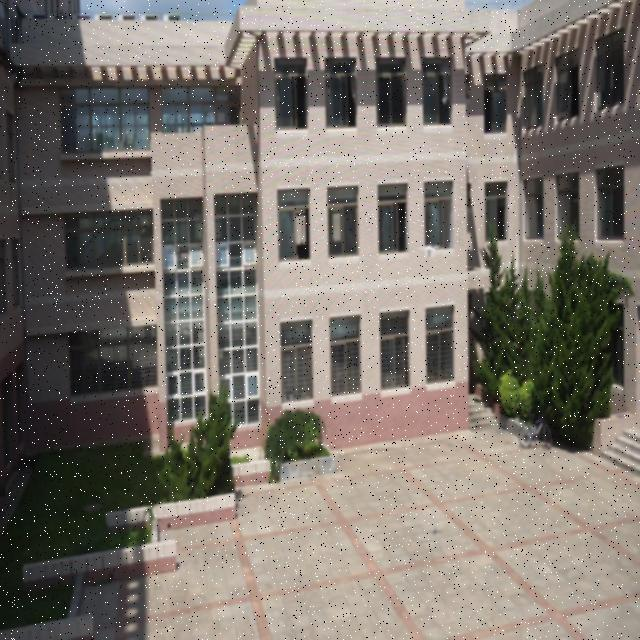UAV: (419, 244, 440, 257)
